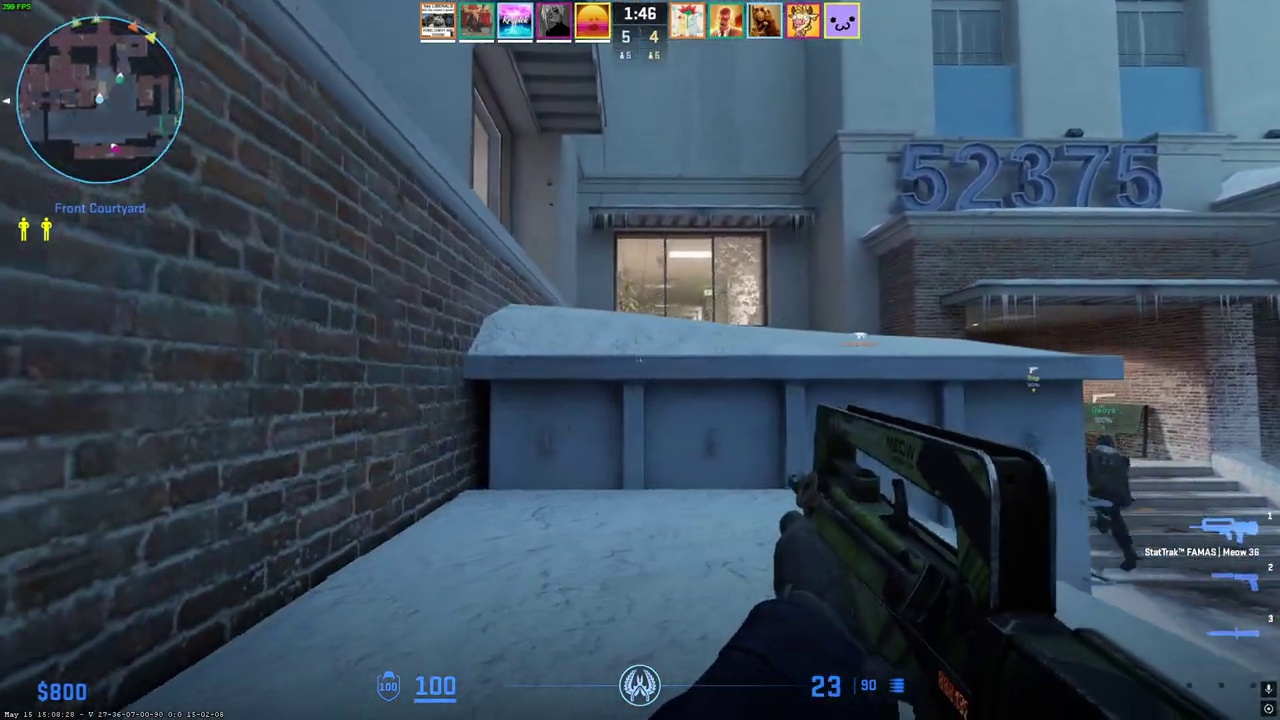CT: (1089, 434, 1140, 572)
